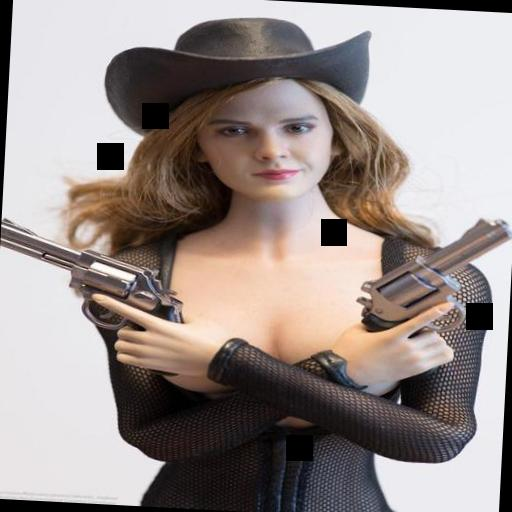Handgun: (0, 212, 199, 344), (351, 203, 512, 350)
